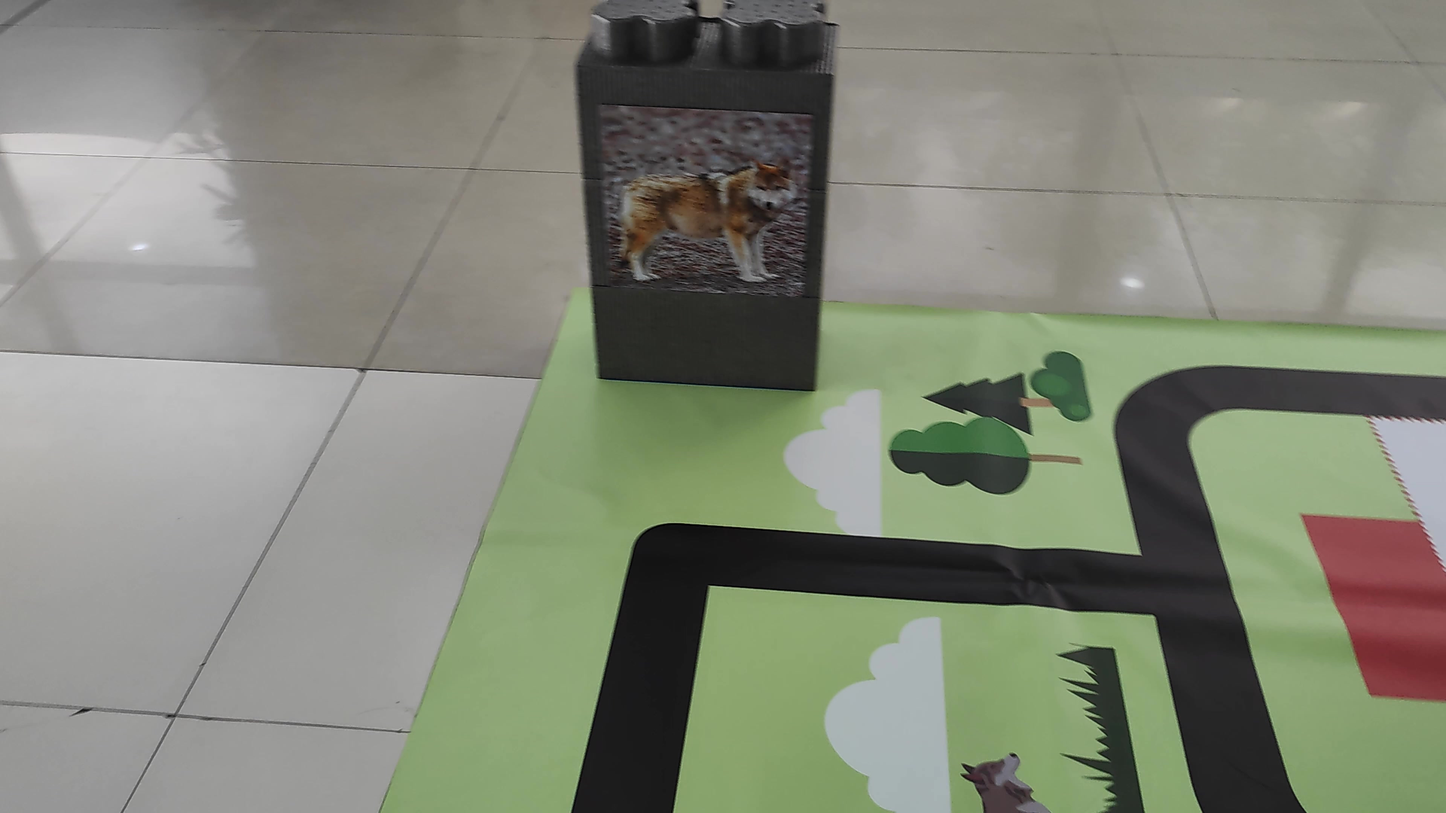wolf: (613, 134, 805, 295)
